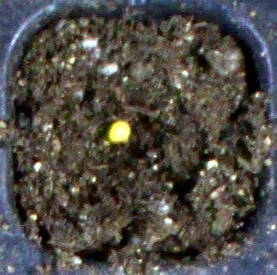chilli seed: (107, 119, 132, 144)
